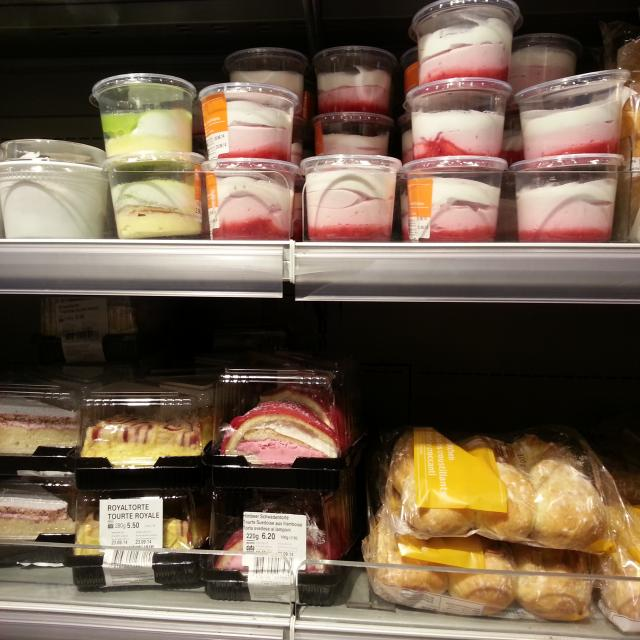Bakery: (382, 422, 617, 556), (205, 478, 356, 606), (212, 361, 355, 479), (77, 377, 211, 482), (72, 486, 203, 592), (510, 68, 632, 163), (0, 139, 107, 239), (508, 152, 625, 242), (399, 155, 511, 241), (411, 0, 521, 85), (298, 155, 403, 242), (102, 150, 206, 236), (90, 71, 196, 154), (403, 77, 512, 157), (197, 81, 299, 162), (200, 158, 302, 238), (0, 377, 80, 469), (0, 470, 75, 567), (310, 44, 395, 112), (308, 110, 395, 157)
